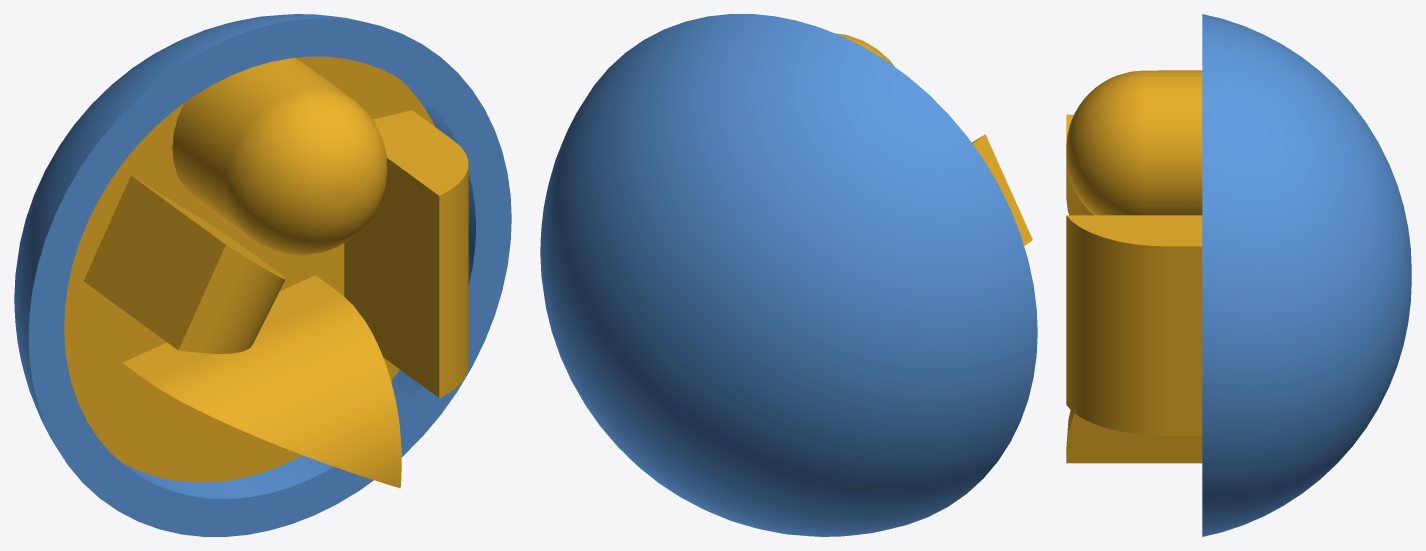
Rendered from Bowl with food.fbx.
3 views of the same model, side by side, from view 1: azimuth 30°, elevation 25°; view 2: azimuth 150°, elevation 25°; view 3: azimuth 270°, elevation 25° (orthographic). The views are drawn at different scales.
Visible parts, largest first — view 1: Body13, Body8; view 2: Body8, Body13; view 3: Body8, Body13.
Part boxes in pixels (<box>): Body13: <box>64,56,468,488</box>; Body8: <box>14,14,511,536</box>; Body8: <box>540,14,1037,536</box>; Body13: <box>835,33,1032,246</box>; Body8: <box>1202,14,1411,536</box>; Body13: <box>1066,70,1202,463</box>.
Bounding box in the file's own units: 50 × 50 × 33.
